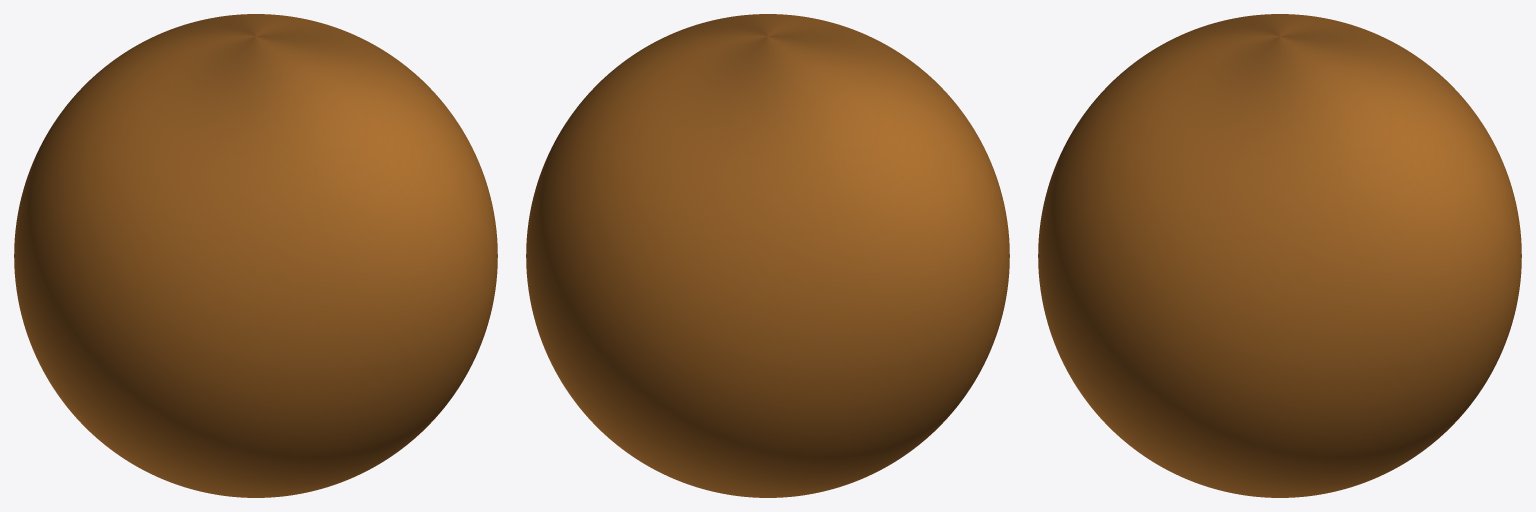
Rendered from titan.glb.
3 renders of one model, left to right at view 1: azimuth 30°, elevation 25°; view 2: azimuth 150°, elevation 25°; view 3: azimuth 270°, elevation 25°, orthographic.
Visible parts, largest first — view 1: Titan_Asset; view 2: Titan_Asset; view 3: Titan_Asset.
Boxes of the visible parts, box(x1,y1,x2,y2) form: Titan_Asset: box(14, 14, 497, 497); Titan_Asset: box(526, 14, 1009, 497); Titan_Asset: box(1038, 14, 1521, 497).
Size of the model in its own units: 0.7989 by 0.7999 by 0.7989.
1 material, 1 textured.
